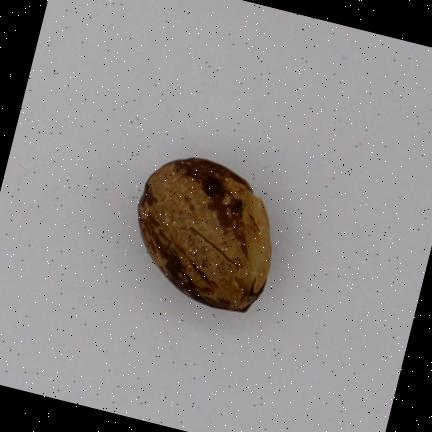husk: (137, 157, 270, 310)
